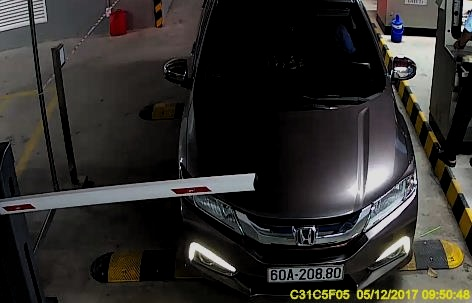plate: (264, 258, 347, 282)
